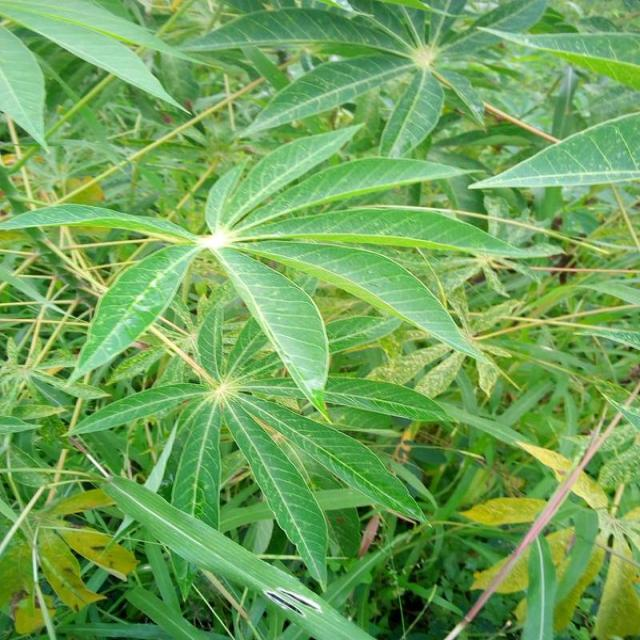cassava leaf: (0, 1, 638, 638), (214, 243, 330, 416), (467, 110, 639, 191)
